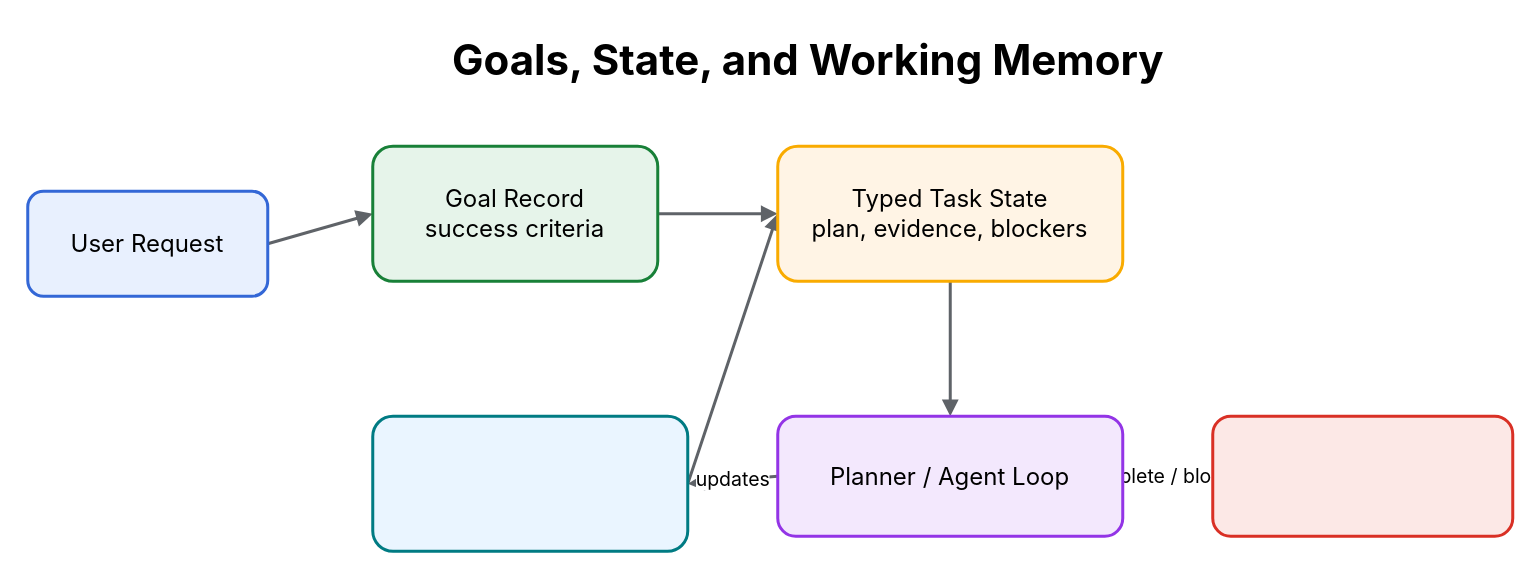
Some shapes in this 1539 by 578 pixel diagram are drawn without their labels. The shapes that lost their labels are listed below. From the top down, each one's centre as x and y in pixels, then its label:
At [529,483]: "State Events tool_result, approved, blocked".
At [1362,475]: "Result or Escalation".
